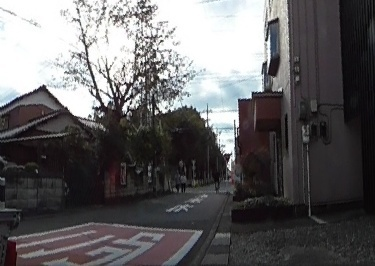person: (175, 158, 186, 191)
